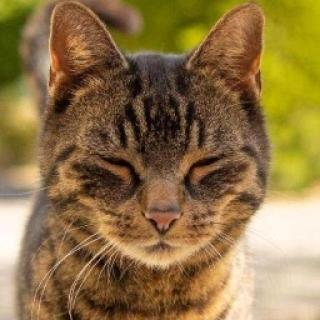cat: (41, 7, 272, 273)
nose: (136, 180, 188, 236)
